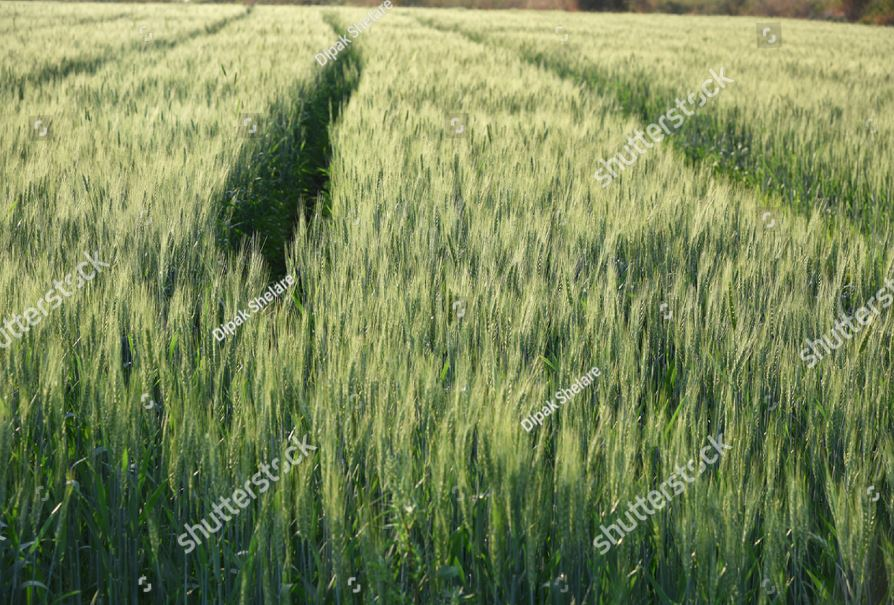Wheat: (34, 270, 866, 554)
